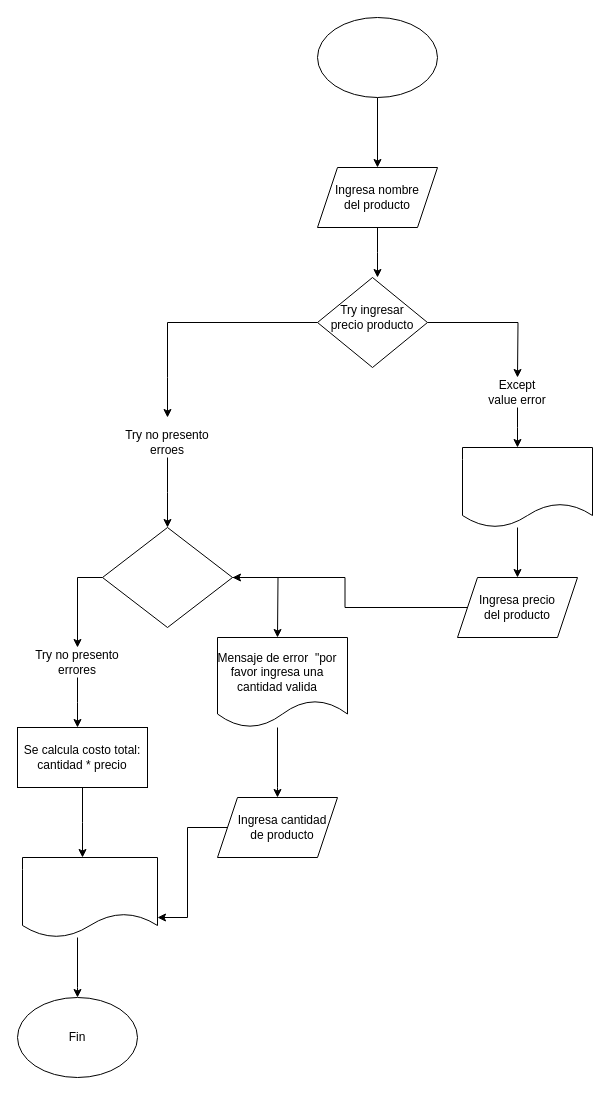
This 610x1095 diagram has some shape labels left out. The shapes that lost their labels are listed below. From the top down, each one's centre as x and y in pixels, then its label:
point 377,57: Inicio
point 527,487: Mensaje de error "por favor ingresa un precio valido"
point 167,577: Try ingresar cantidad producto
point 90,897: Mensaje con nombre, precio, cantidad y costo total
